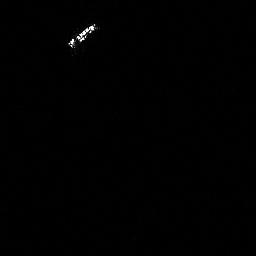ship: (67, 22, 101, 52)
